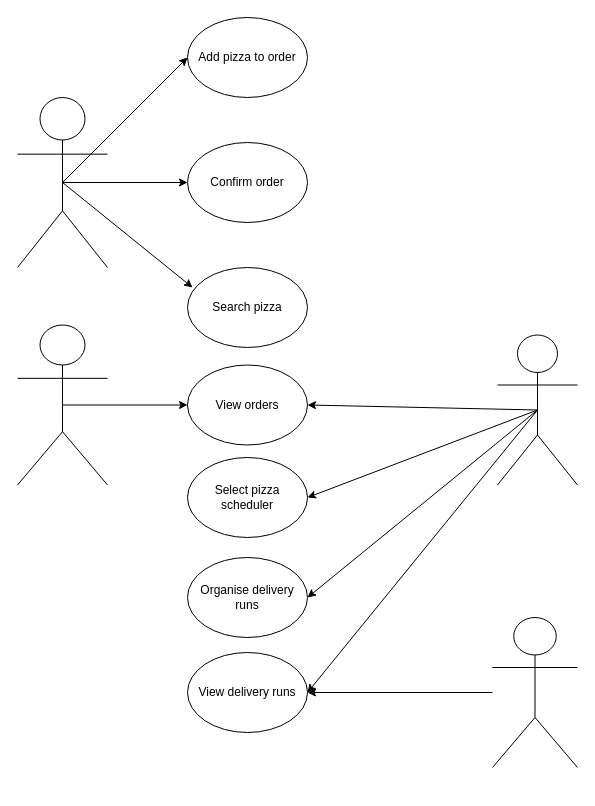
This 595x806 diagram has some shape labels left out. The centre of each missing label's shape, as x and y in pixels:
"Delivery guy" goes at point 535,692.
"Kitchcen staff" goes at point 62,404.
"Manager" goes at point 537,409.
"User" goes at point 62,182.
